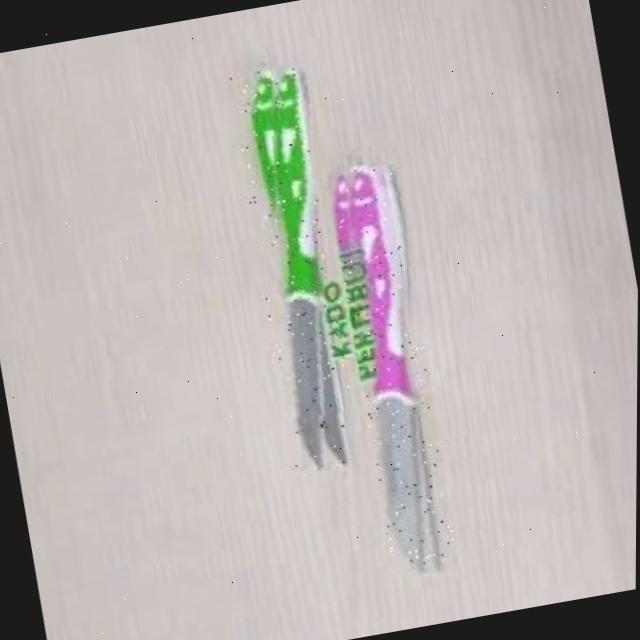knife: (224, 60, 364, 472), (324, 162, 462, 578)
